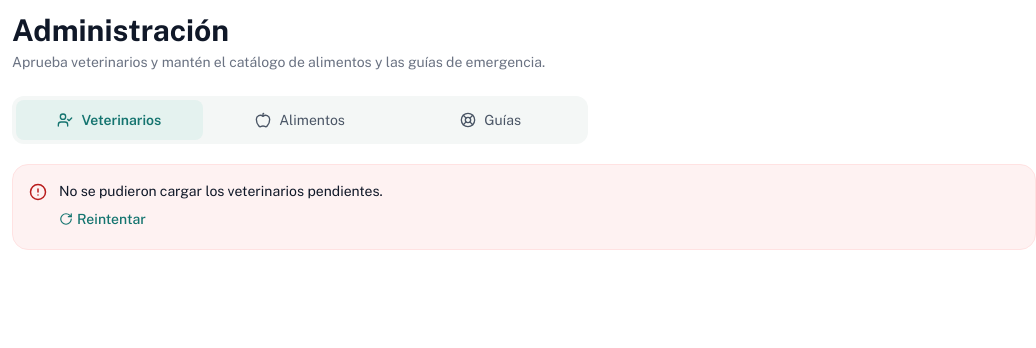
Test: AdminPanelPage › shows an error with a retry option when loading fails
This screenshot has width=1036, height=348.
Expected: the text "No se pudieron cargar los veterinarios pendientes." is shown, [59, 183, 383, 199]
Click the button "Reintentar".
click(102, 219)  # box [59, 209, 146, 229]
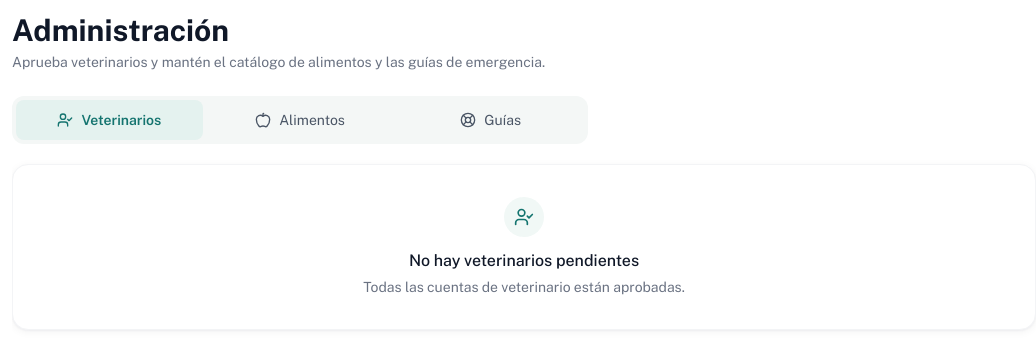
Expected: the text "No hay veterinarios pendientes" is shown, [409, 251, 639, 270]
